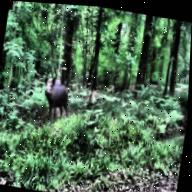boar: (36, 72, 78, 118)
